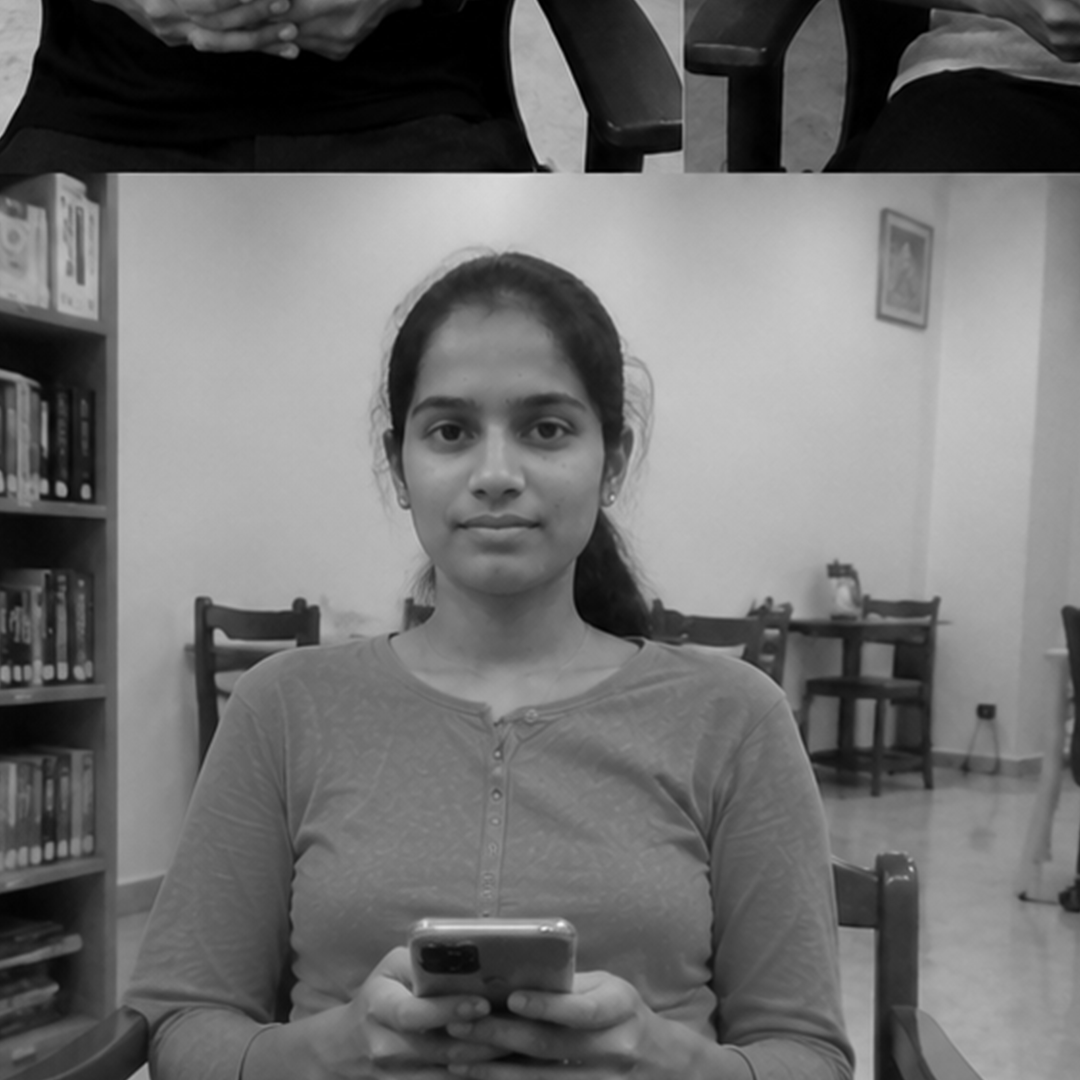Focused: (213, 197, 781, 1066)
